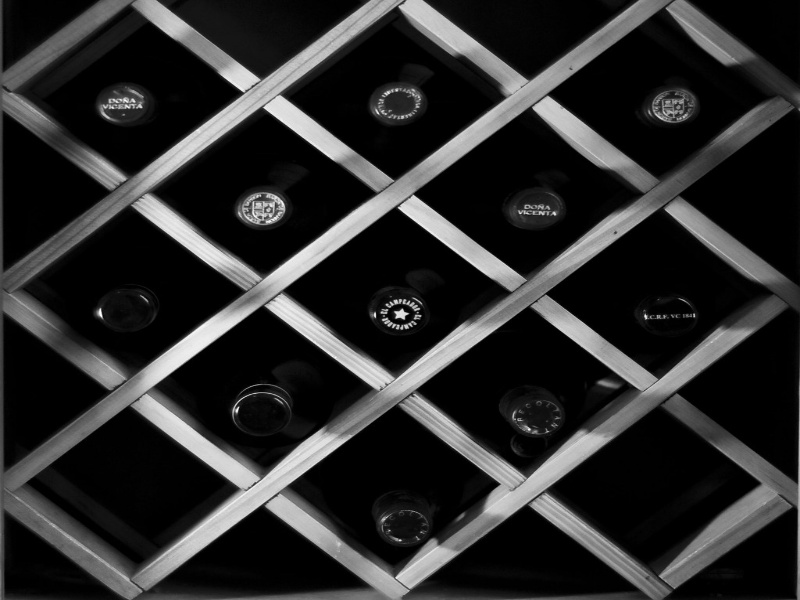wine: (6, 17, 765, 558)
